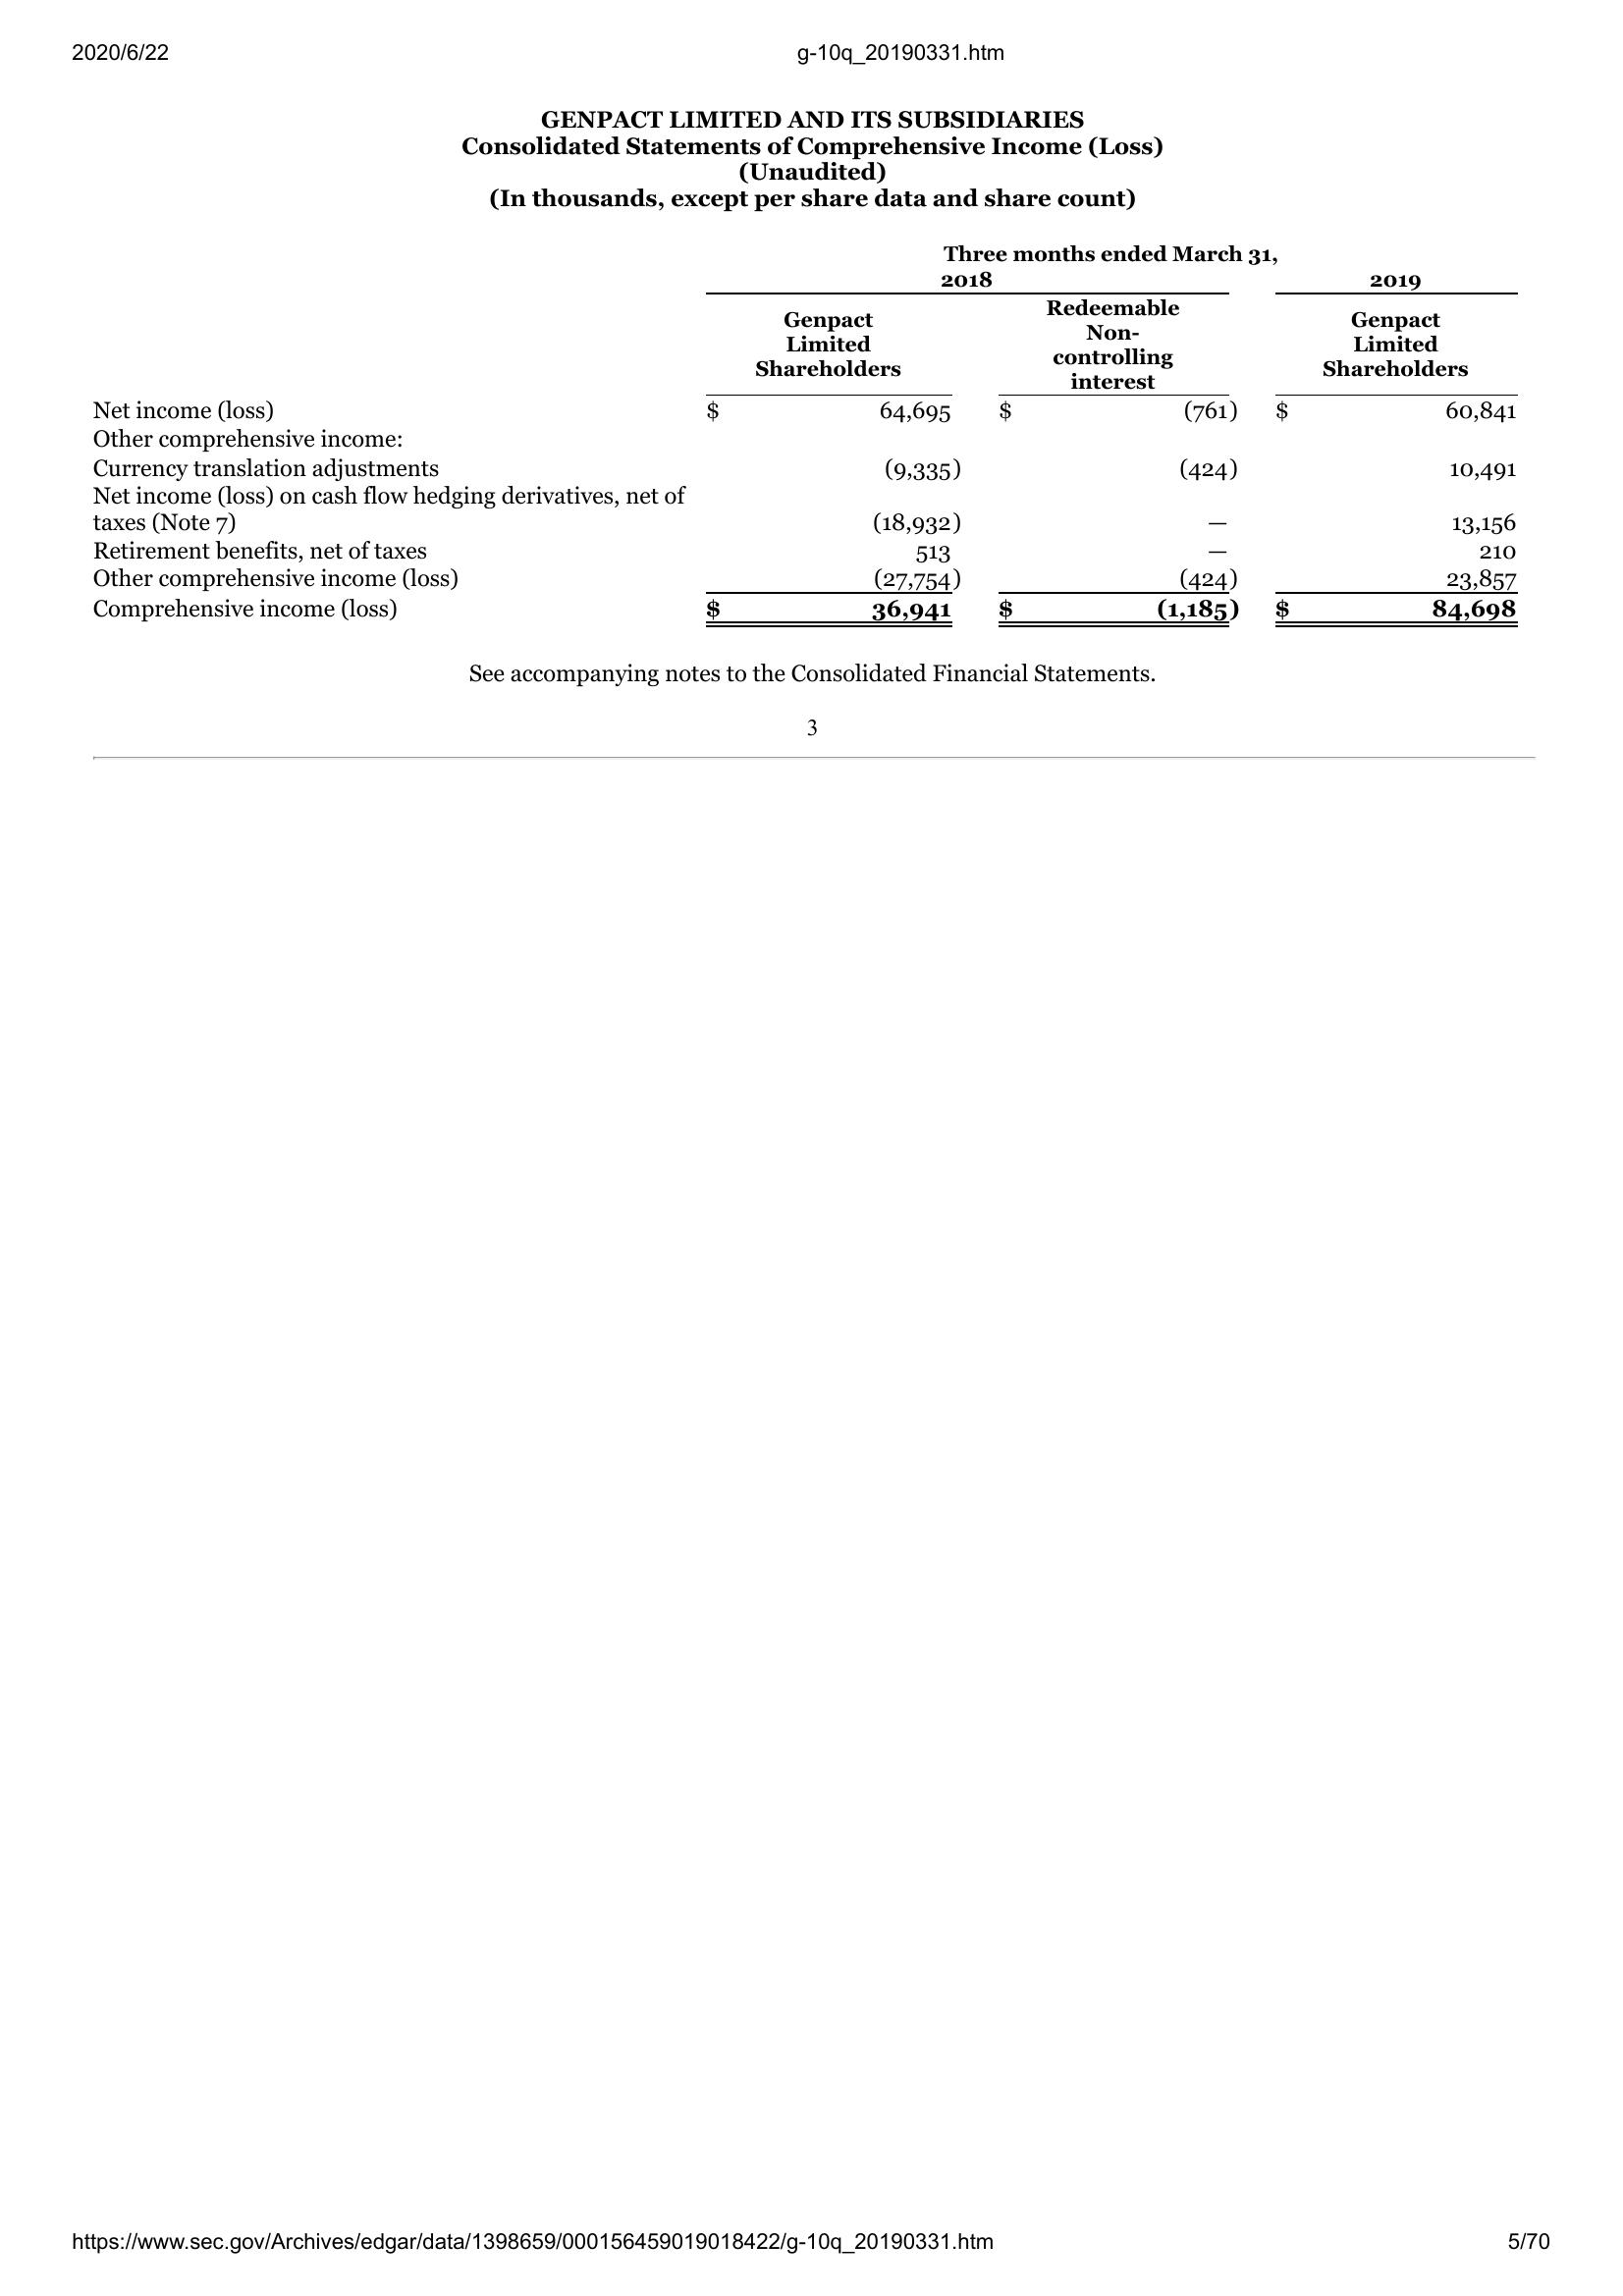table: (88, 242, 1528, 635)
